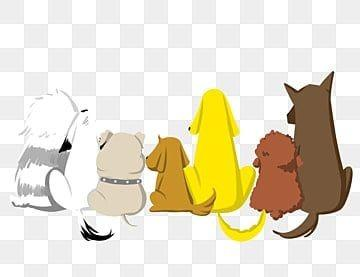adult_dog: (272, 71, 354, 240), (186, 87, 269, 244), (11, 89, 91, 213)
puppy-dog: (79, 129, 148, 242), (145, 135, 217, 216), (250, 130, 306, 222)
